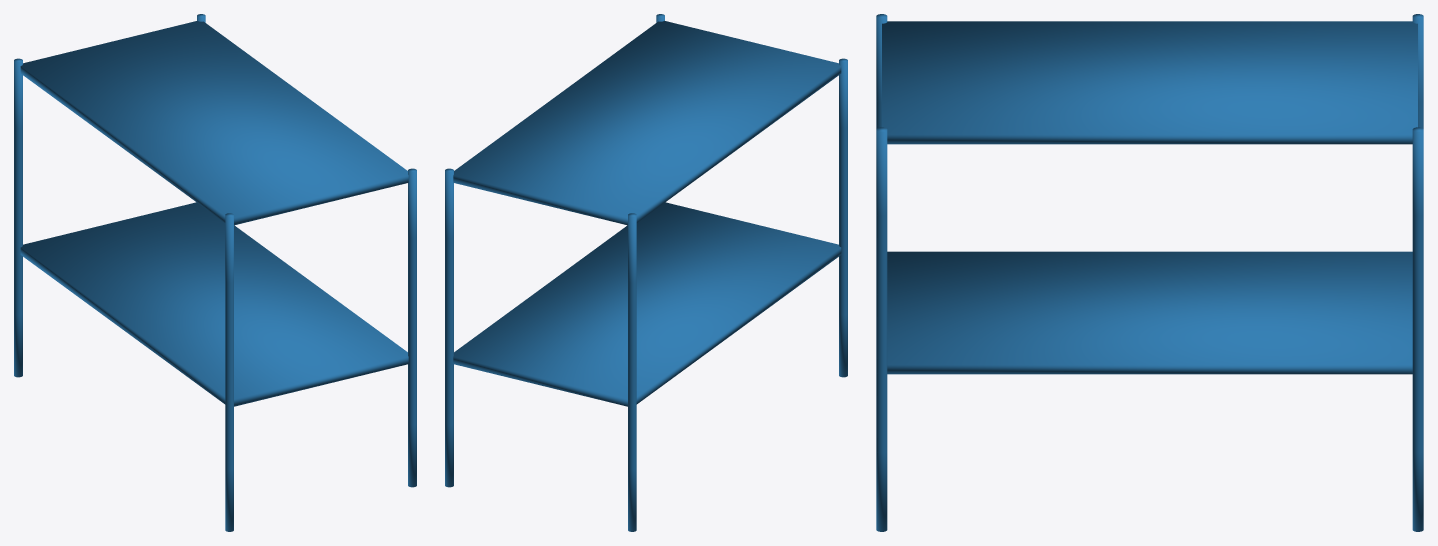
File: ShelvingUnit.fbx
3 renders of one model, left to right at view 1: azimuth 30°, elevation 25°; view 2: azimuth 150°, elevation 25°; view 3: azimuth 270°, elevation 25°, orthographic. The views are drawn at different scales.
Visible parts, largest first — view 1: ShelvingUnit:Box002; view 2: ShelvingUnit:Box002; view 3: ShelvingUnit:Box002.
Boxes of the visible parts, x1,y1,x2,y2 form: ShelvingUnit:Box002: (14,14,416,531); ShelvingUnit:Box002: (445,14,847,531); ShelvingUnit:Box002: (876,14,1423,531).
Size of the model in its own units: 10.43 by 16.45 by 20.42.
